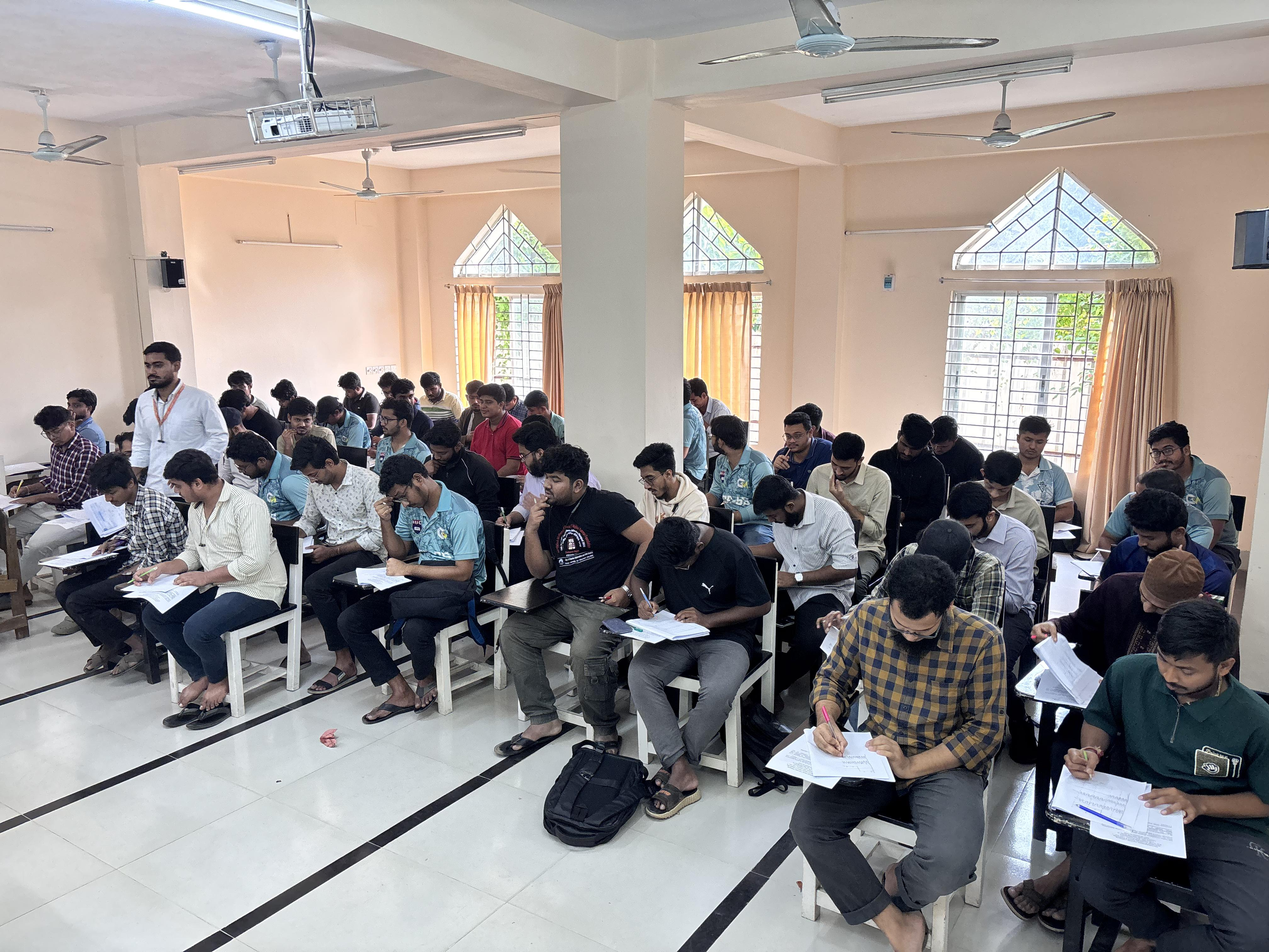copying: (147, 448, 253, 653), (17, 392, 97, 564), (71, 456, 158, 598), (511, 428, 555, 470), (525, 385, 562, 421)
invigilator: (120, 339, 214, 518)
no_cheating: (1053, 591, 1269, 914), (779, 556, 975, 898), (518, 441, 638, 749), (620, 508, 750, 739), (354, 453, 492, 660), (276, 424, 378, 575), (1076, 551, 1217, 655), (750, 469, 842, 602), (1086, 487, 1193, 568), (227, 430, 304, 505), (1010, 407, 1069, 504), (946, 481, 1007, 572), (879, 411, 936, 502), (962, 441, 1031, 512), (1135, 411, 1205, 480), (634, 432, 692, 511), (818, 432, 867, 521), (767, 404, 823, 474), (422, 411, 473, 481), (470, 379, 513, 456), (362, 399, 421, 453), (334, 367, 381, 427), (66, 383, 105, 435), (313, 393, 354, 434), (415, 365, 449, 409)
side_talking: (702, 406, 775, 495), (276, 392, 332, 439)
